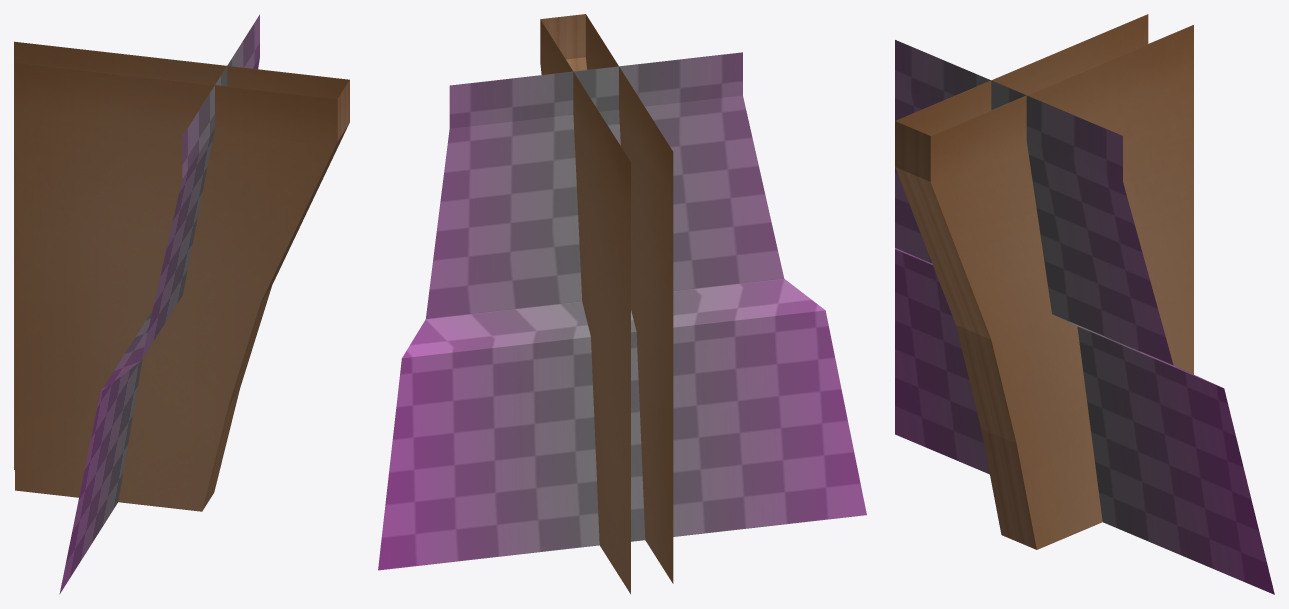
Rendered from sovereign_corridor_diag_btm_split.obj.
The picture shows the model from 3 angles, left to right: view 1: azimuth 30°, elevation 25°; view 2: azimuth 150°, elevation 25°; view 3: azimuth 270°, elevation 25°; orthographic projection. The views are drawn at different scales.
Visible parts, largest first — view 1: Box001.003_Box001.017; view 2: Box001.003_Box001.017; view 3: Box001.003_Box001.017.
Boxes of the visible parts, x1=… form: Box001.003_Box001.017: x1=14, y1=14, x2=349, y2=594; Box001.003_Box001.017: x1=378, y1=14, x2=866, y2=594; Box001.003_Box001.017: x1=895, y1=14, x2=1274, y2=594.
Bounding box in the file's own units: 0.75 × 1 × 0.75.
